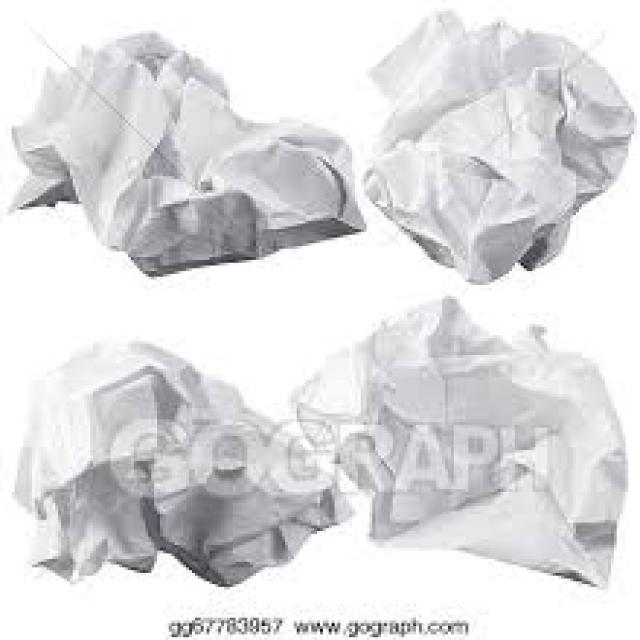paper: (285, 291, 623, 587), (12, 28, 361, 277), (6, 335, 352, 584), (352, 3, 634, 279)
